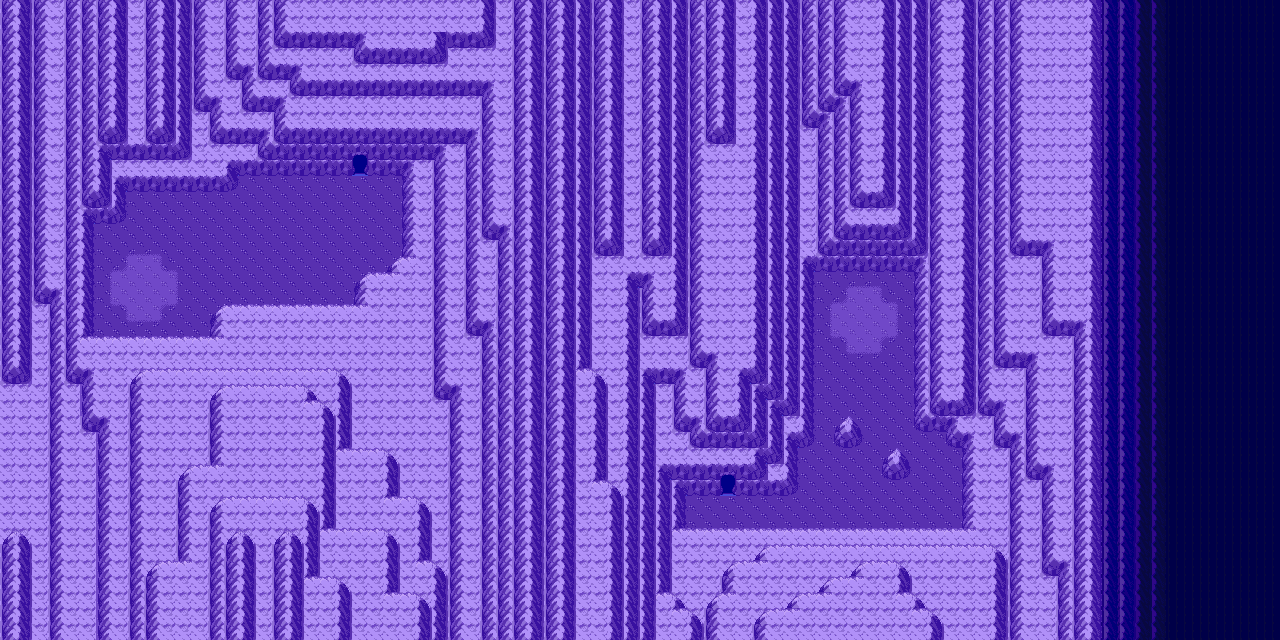cave: (688, 459, 769, 500), (324, 140, 396, 179)
